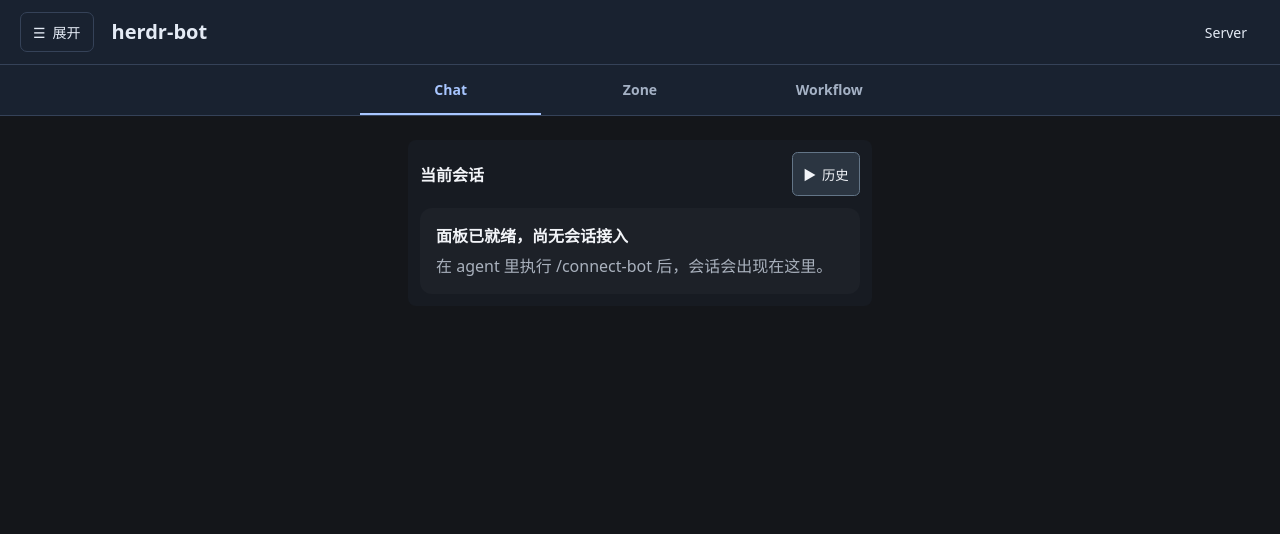
Scenario: 文件列表：zone 登记 › 进入文件列表才读取后端共享列表，不显示客户端文件选择器
Click the tab with test id "tab-files" at (640, 90), box [549,65,731,115]
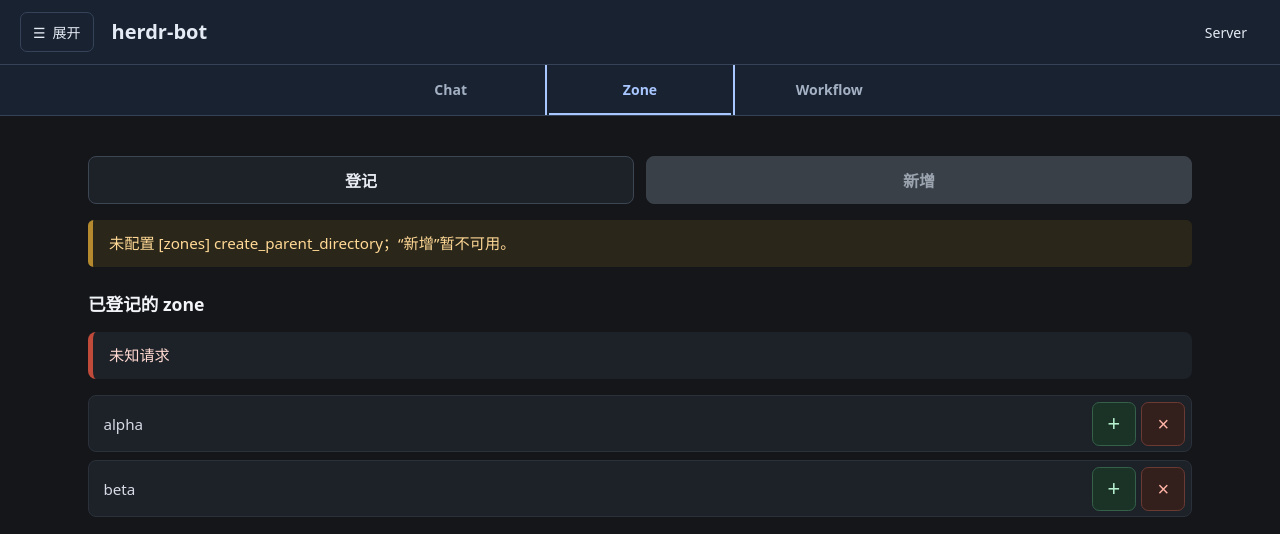
Result: the text "alpha" is shown at [103,414,143,434]
Result: the text "beta" is shown at [103,479,135,499]
Result: the button named "浏览 C:\\work\\alpha" reads "alpha" at [95,402,1086,446]
